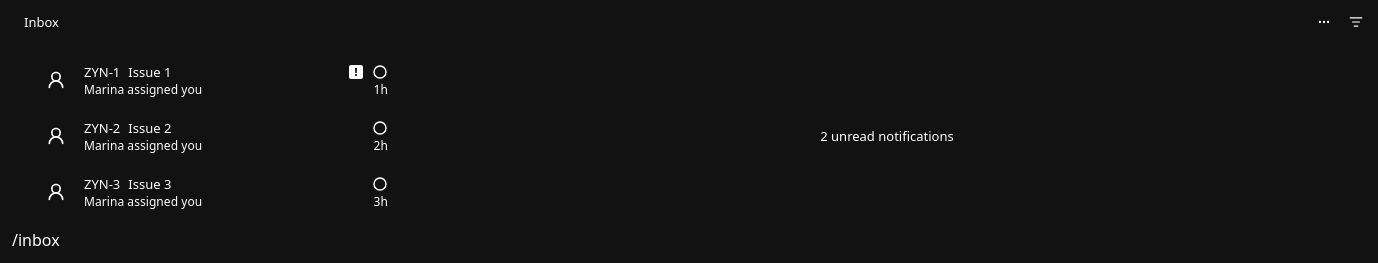
Test: InboxPage › Show unreads only vai para a URL e esconde as lidas
Click the button named "Show unreads only": (1356, 22) [1342,8,1370,36]
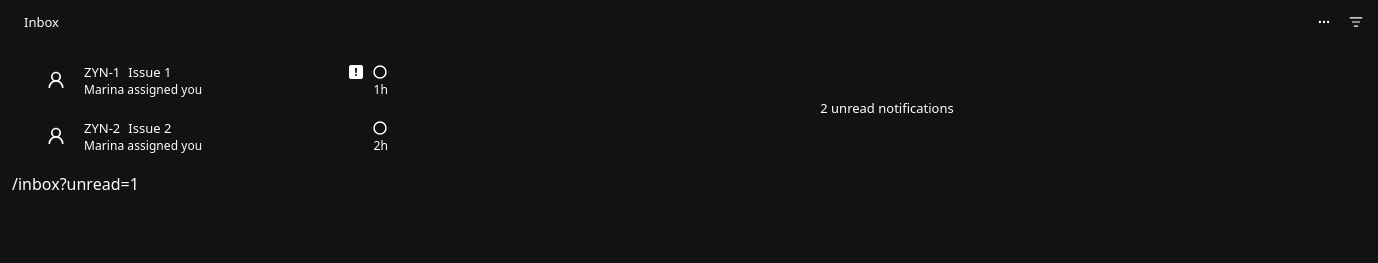
Now the text named "Current URL" reads "/inbox?unread=1", box [12,173,139,195]
